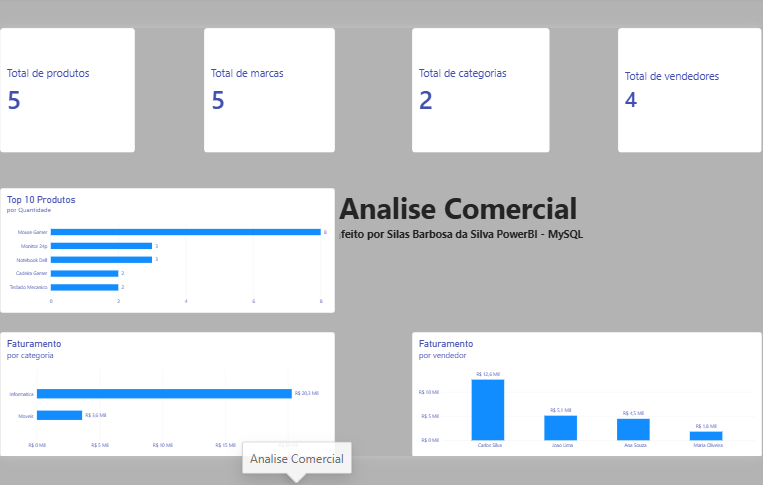

The dashboard page shown, as its layout file describes it:
{"tool":"powerbi","page":{"name":"Analise Comercial","canvas":[1920,1080],"ordinal":1},"visuals":[{"type":"cardVisual","fields":{"Data":["CountNonNull(produtos.id_produto)"]},"box":[0,0,340.2,315],"z":0},{"type":"cardVisual","fields":{"Data":["Count(produtos.marca)"]},"box":[514,0,330.1,315],"z":1000},{"type":"cardVisual","fields":{"Data":["Count(produtos.categoria)"]},"box":[1038.1,0,347.7,315],"z":2000},{"type":"cardVisual","fields":{"Data":["Count(vendedores.vendedor)"]},"box":[1557.2,0,362.8,315],"z":3000},{"type":"barChart","fields":{"Y":["itens_vendas.Faturamento"],"Category":["produtos.categoria"]},"box":[0,766,844.1,315],"z":4000},{"type":"columnChart","fields":{"Y":["itens_vendas.Faturamento"],"Category":["vendedores.vendedor"]},"box":[1038.1,766,881.9,315],"z":5000},{"type":"barChart","fields":{"Category":["produtos.produto"],"Y":["itens_vendas.Quantidade de produtos vendidas"]},"box":[0,403.1,844.1,315],"z":6000},{"type":"textbox","box":[854.2,403.1,977.6,315],"z":6001}]}

Visuals, with their boxes on the page's 1920x1080 design canvas (x1, y1, x2, y2). These are canvas units, not pixel positions in the 763x485 screenshot, which may show the page scaled, cropped or inside an application window:
cardVisual - CountNonNull(produtos.id_produto): <box>0,0,340,315</box>
cardVisual - Count(produtos.marca): <box>514,0,844,315</box>
cardVisual - Count(produtos.categoria): <box>1038,0,1386,315</box>
cardVisual - Count(vendedores.vendedor): <box>1557,0,1920,315</box>
barChart - itens_vendas.Faturamento x produtos.categoria: <box>0,766,844,1081</box>
columnChart - itens_vendas.Faturamento x vendedores.vendedor: <box>1038,766,1920,1081</box>
barChart - produtos.produto x itens_vendas.Quantidade de produtos vendidas: <box>0,403,844,718</box>
textbox: <box>854,403,1832,718</box>
